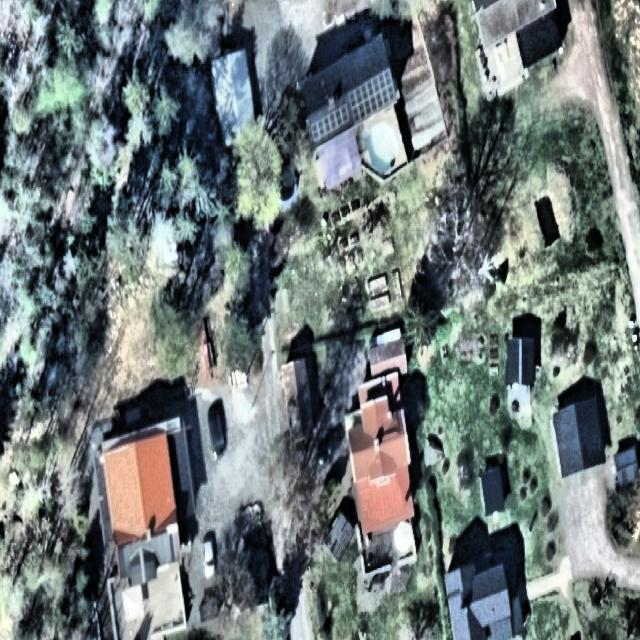roof_pv: (346, 67, 397, 121), (312, 103, 353, 144)
